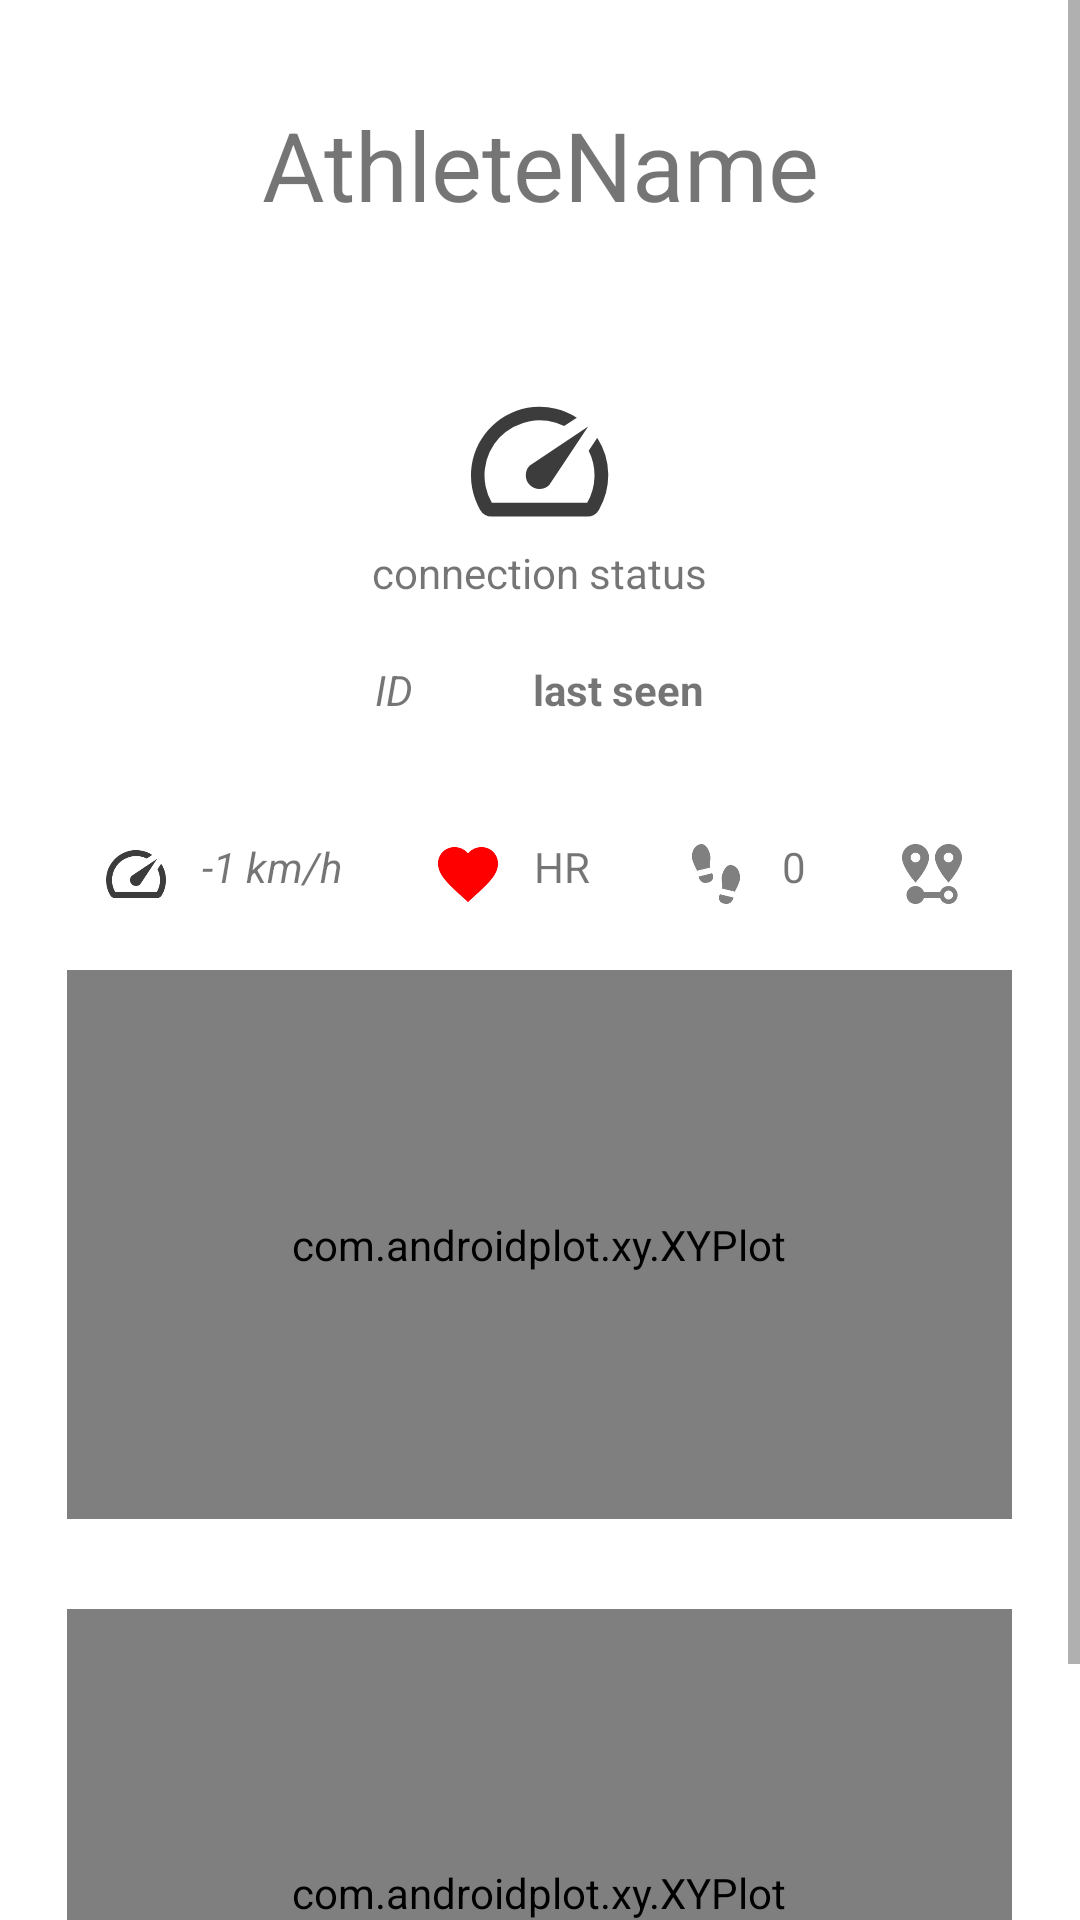

Screen size 1080 × 1920. Icon name, then its center in pixels as (x,y):
speed: (540,461)
